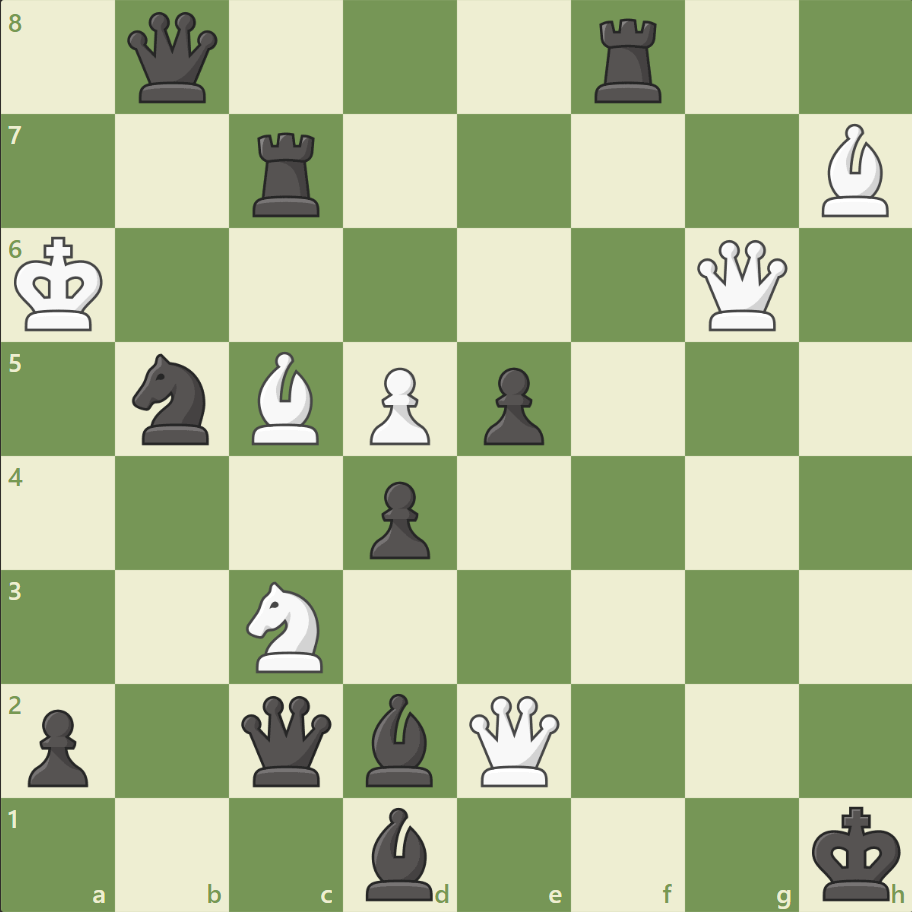B: (812, 120, 896, 222), (244, 347, 328, 449)
K: (11, 231, 111, 339)
N: (238, 575, 335, 677)
P: (361, 359, 435, 450)
Q: (691, 236, 790, 335), (464, 690, 563, 789)
b: (358, 687, 442, 790), (358, 801, 442, 904)
k: (806, 798, 906, 906)
n: (124, 348, 222, 450)
p: (474, 359, 549, 450), (20, 700, 95, 791), (361, 473, 435, 564)
q: (124, 9, 223, 108), (237, 690, 336, 789)
r: (587, 12, 670, 109), (246, 125, 329, 222)
